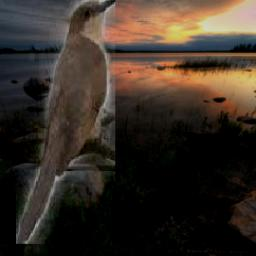Cuckoo: (16, 0, 115, 245)
